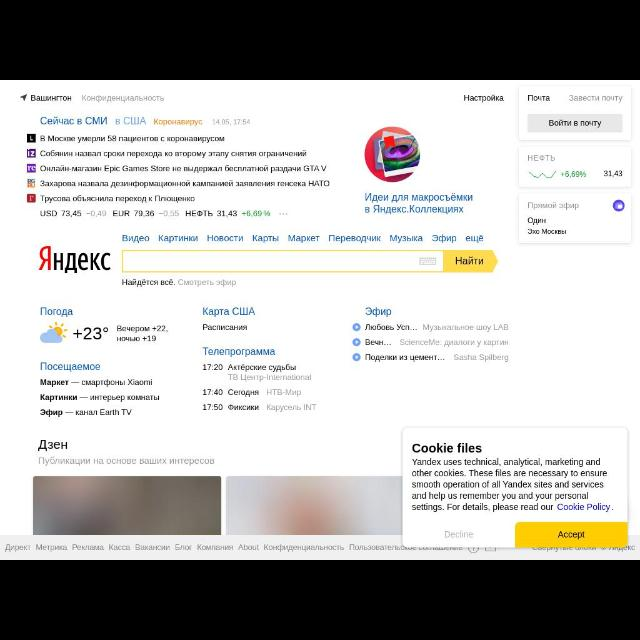button: (444, 249, 498, 273)
icon: (418, 258, 438, 264), (352, 322, 361, 332), (20, 93, 28, 103), (353, 338, 361, 346), (278, 211, 288, 217), (353, 352, 359, 362)
image: (364, 126, 420, 182), (38, 244, 110, 272)
input: (122, 250, 444, 272)
text: (412, 458, 616, 512), (39, 208, 271, 222), (39, 164, 327, 174), (40, 150, 308, 160), (363, 192, 472, 214), (40, 180, 330, 188), (38, 456, 216, 468), (39, 134, 225, 144), (40, 195, 196, 203), (123, 278, 237, 288), (398, 338, 509, 348), (116, 324, 170, 344), (230, 372, 312, 383), (202, 346, 276, 358), (422, 322, 508, 332), (411, 442, 481, 454), (365, 352, 445, 362), (80, 95, 164, 104), (228, 363, 298, 373), (90, 394, 160, 404), (40, 361, 102, 372), (39, 116, 107, 126), (546, 117, 602, 129), (328, 234, 382, 246), (202, 306, 255, 318), (454, 352, 508, 362), (528, 201, 580, 211), (153, 117, 203, 127), (81, 379, 152, 386), (74, 328, 108, 342), (568, 94, 626, 102), (266, 403, 316, 412), (364, 323, 418, 331), (38, 438, 68, 452), (39, 306, 73, 318), (75, 409, 133, 416), (464, 93, 504, 103), (157, 234, 200, 243), (202, 325, 250, 333), (265, 387, 303, 397), (40, 392, 76, 402), (114, 115, 148, 125), (227, 402, 261, 412), (30, 94, 72, 102), (388, 234, 424, 243), (212, 118, 252, 126), (288, 233, 320, 243), (442, 530, 474, 540), (206, 234, 244, 242), (556, 530, 586, 540), (121, 234, 149, 244), (528, 228, 568, 235), (456, 255, 484, 265), (432, 234, 458, 244), (561, 169, 587, 179), (366, 308, 392, 318), (251, 235, 281, 243), (228, 388, 258, 396), (40, 380, 70, 388), (528, 154, 556, 162), (202, 387, 224, 397), (40, 408, 62, 418), (525, 94, 551, 102), (202, 403, 224, 412), (602, 170, 624, 178), (464, 234, 484, 242), (203, 364, 223, 372), (365, 338, 391, 344), (527, 217, 545, 225)
textbutton: (515, 522, 627, 546), (528, 114, 622, 132)
